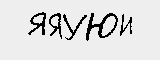И: (117, 14, 136, 37)
У: (63, 15, 85, 42)
Ю: (85, 10, 120, 39)
Я: (25, 10, 49, 36), (44, 12, 63, 39)
